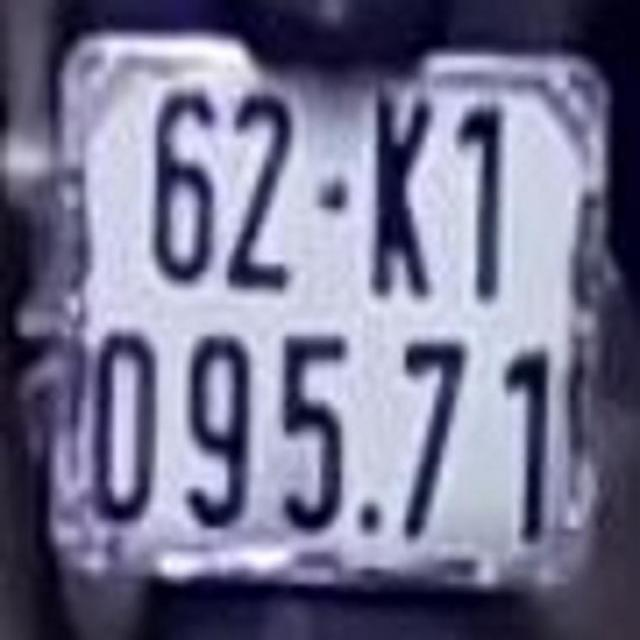0: (90, 322, 157, 527)
1: (498, 330, 566, 552), (452, 92, 512, 303)
2: (226, 84, 294, 295)
5: (278, 317, 350, 534)
6: (149, 82, 214, 285)
7: (397, 326, 470, 542)
9: (187, 318, 250, 532)
K: (366, 86, 436, 300)
